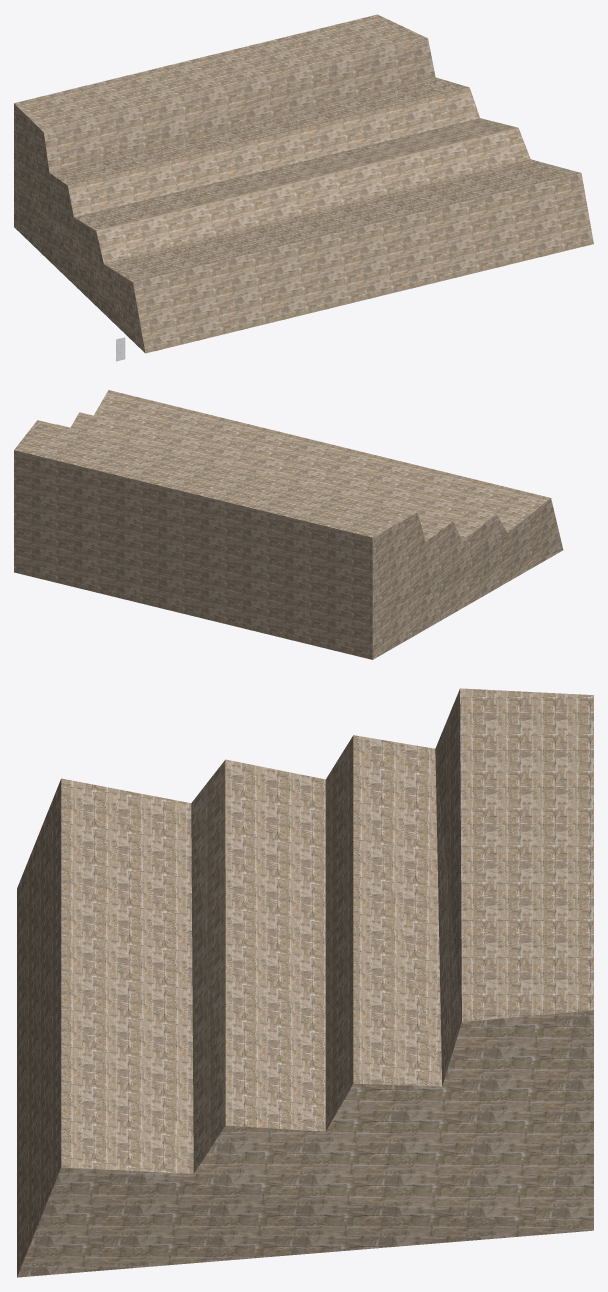
File: Layered_NW.glb
3 views of the same model, one above another, from view 1: azimuth 30°, elevation 25°; view 2: azimuth 150°, elevation 25°; view 3: azimuth 270°, elevation 25° (orthographic). The views are drawn at different scales.
Visible parts, largest first — view 1: Mesh1 Model; view 2: Mesh1 Model; view 3: Mesh1 Model.
Part boxes in pixels (x1,y1,x2,y2): Mesh1 Model: [14, 14, 593, 353]; Mesh1 Model: [14, 390, 563, 659]; Mesh1 Model: [17, 688, 593, 1277].
Size of the model in its own units: 36.37 by 9 by 21.48.
2 materials, 2 textured.
